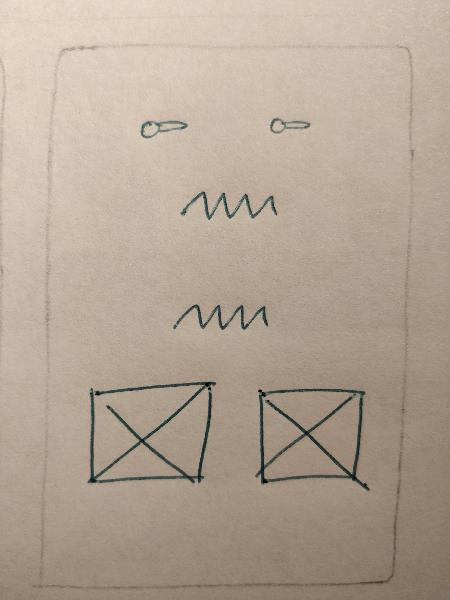image: (76, 371, 230, 497), (248, 376, 377, 501)
switch: (133, 103, 195, 147), (262, 103, 326, 141)
text: (172, 180, 289, 229), (164, 290, 277, 337)
